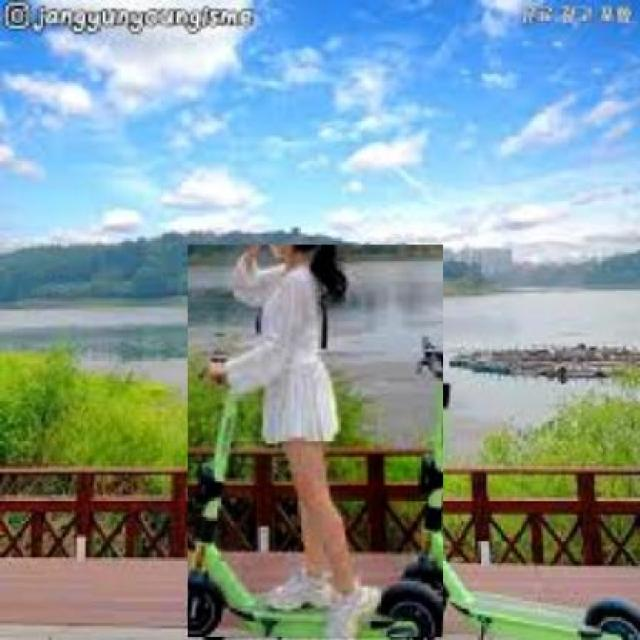pedestrian: (188, 246, 443, 640)
